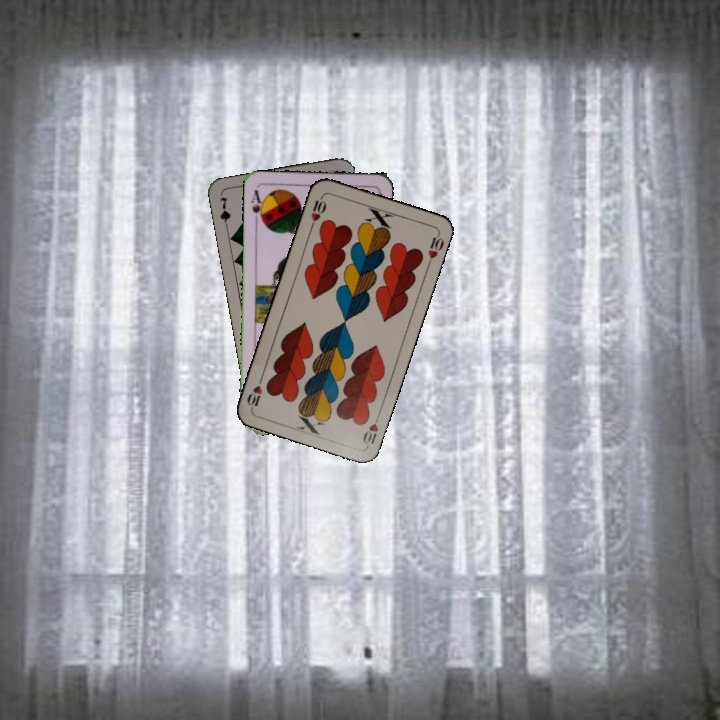G7: (216, 193, 233, 233)
H10: (358, 409, 383, 449), (306, 191, 329, 231)
SA: (247, 186, 266, 226)
